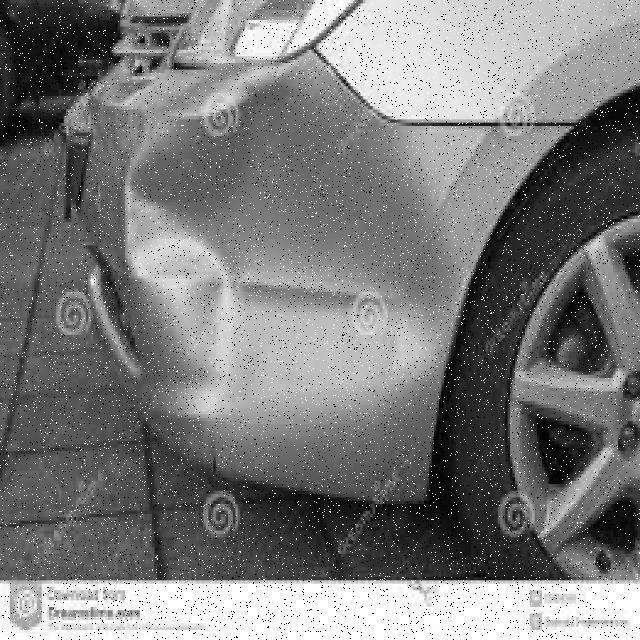front-bumper-dent: (8, 63, 525, 527)
